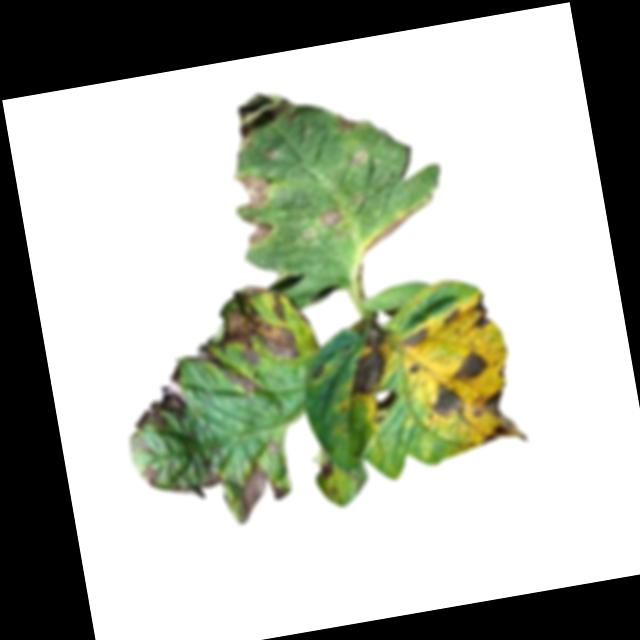Early_blight: (175, 277, 310, 402), (228, 81, 311, 151), (338, 310, 399, 399), (462, 383, 530, 453), (123, 361, 190, 432), (355, 202, 431, 253), (233, 457, 292, 521), (232, 167, 274, 210), (425, 379, 465, 421), (449, 346, 492, 383), (238, 208, 275, 246), (467, 290, 494, 329), (397, 323, 435, 349), (318, 203, 346, 228), (334, 110, 361, 133), (199, 468, 226, 491), (139, 460, 161, 486), (439, 304, 464, 324), (316, 459, 336, 481), (308, 360, 329, 379), (408, 360, 418, 373)
